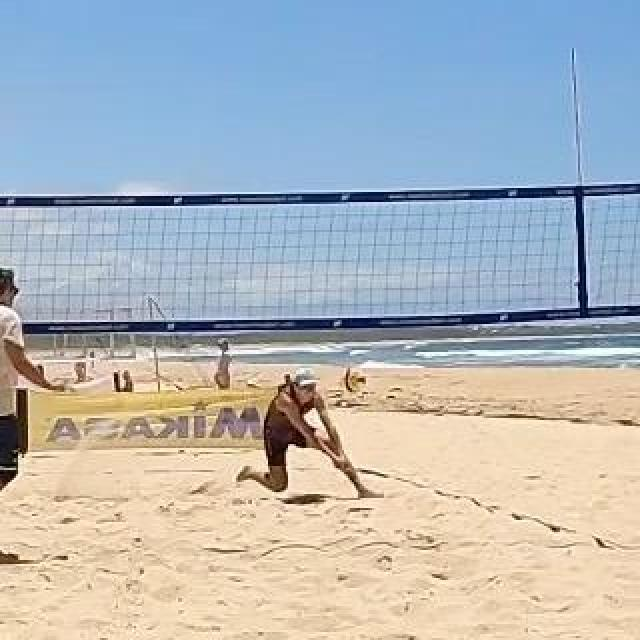volleyball: (341, 367, 367, 391)
